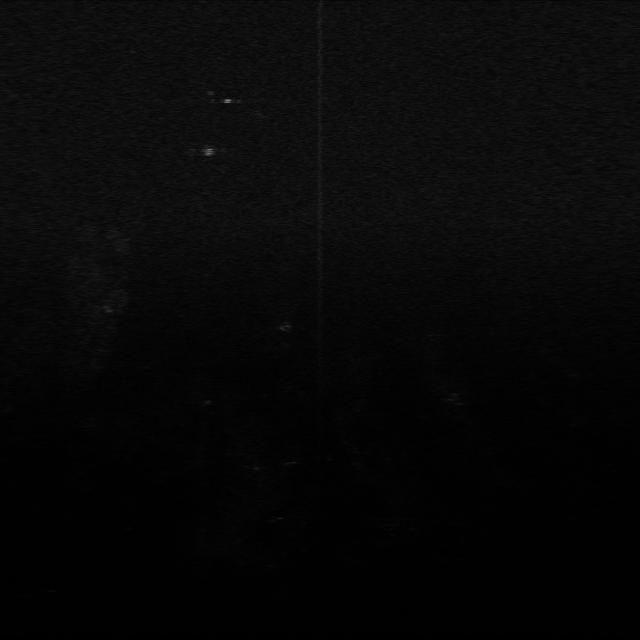rov: (193, 140, 221, 159)
